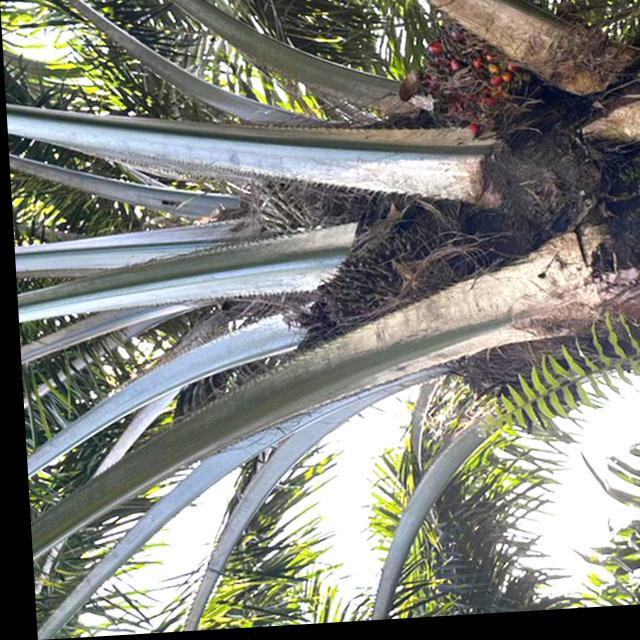almost: (284, 212, 475, 361)
